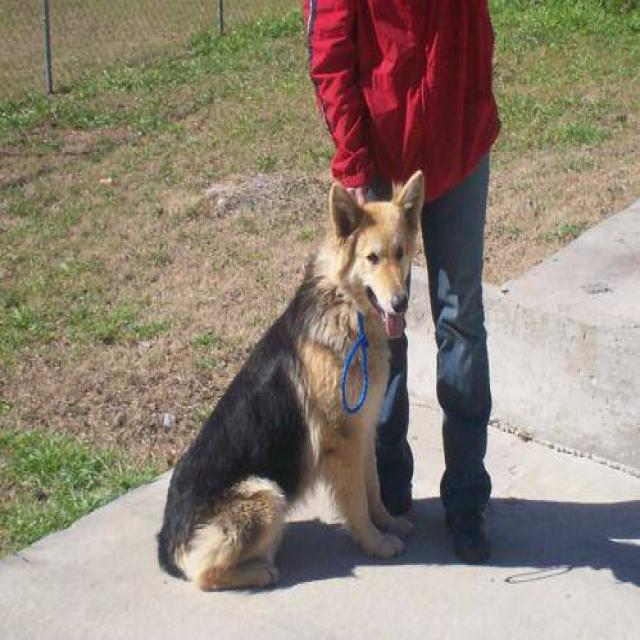dog: (155, 167, 425, 592)
